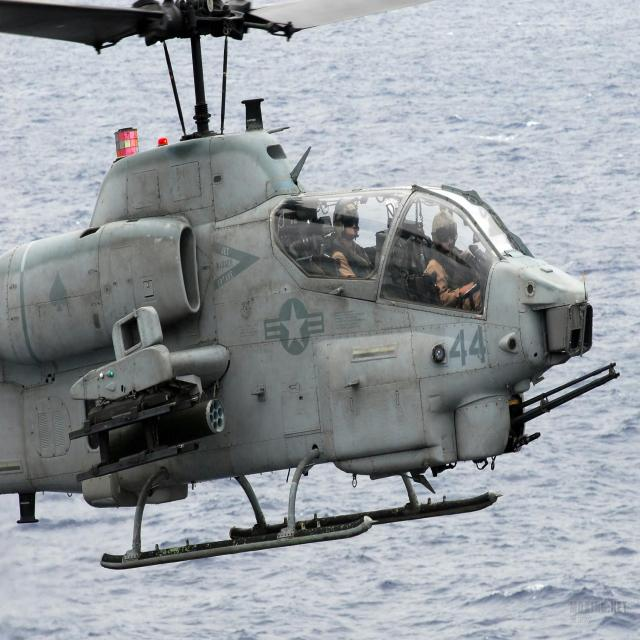MIL_HELO: (0, 3, 640, 582)
